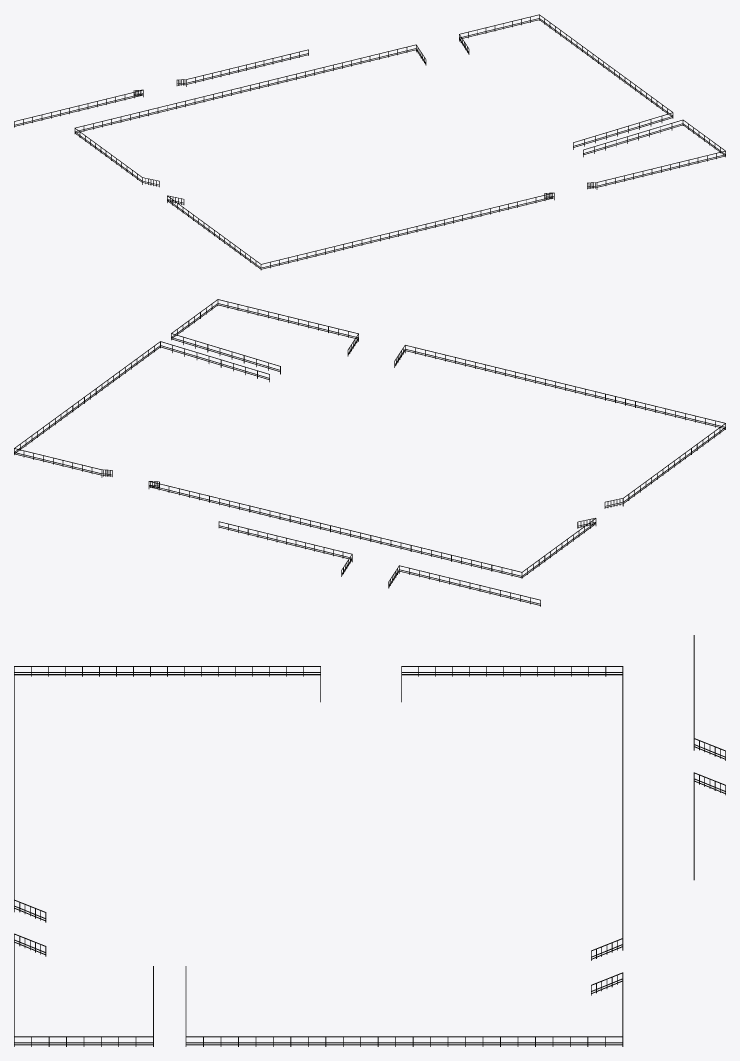
The model's file is Rail.glb.
3 renders of one model, top to bottom at view 1: azimuth 30°, elevation 25°; view 2: azimuth 150°, elevation 25°; view 3: azimuth 270°, elevation 25°, orthographic. The views are drawn at different scales.
Visible parts, largest first — view 1: Rail02, Rail07, Rail04, Rail06, Rail21, Rail22, Rail08, Rail13, Rail14; view 2: Rail02, Rail07, Rail04, Rail21, Rail06, Rail22, Rail08, Rail14, Rail13; view 3: Rail04, Rail08, Rail01, Rail05.
Boxes of the visible parts, bbox=[...] form: Rail02: bbox=[75, 44, 416, 132]; Rail07: bbox=[261, 192, 554, 269]; Rail04: bbox=[539, 14, 673, 118]; Rail06: bbox=[596, 151, 725, 189]; Rail21: bbox=[14, 89, 143, 127]; Rail22: bbox=[186, 49, 308, 86]; Rail08: bbox=[167, 195, 261, 270]; Rail13: bbox=[573, 112, 672, 149]; Rail14: bbox=[583, 119, 682, 157]; Rail02: bbox=[148, 481, 521, 577]; Rail07: bbox=[405, 345, 724, 428]; Rail04: bbox=[14, 341, 160, 454]; Rail21: bbox=[399, 565, 540, 606]; Rail06: bbox=[218, 299, 358, 341]; Rail22: bbox=[218, 521, 352, 562]; Rail08: bbox=[622, 423, 725, 506]; Rail14: bbox=[171, 333, 280, 374]; Rail13: bbox=[160, 341, 269, 382]; Rail04: bbox=[185, 1036, 623, 1046]; Rail08: bbox=[14, 666, 320, 676]; Rail01: bbox=[401, 666, 622, 676]; Rail05: bbox=[14, 1036, 153, 1046].
Size of the model in its own units: 55.52 by 1.46 by 41.61.
20 materials, 20 textured.
